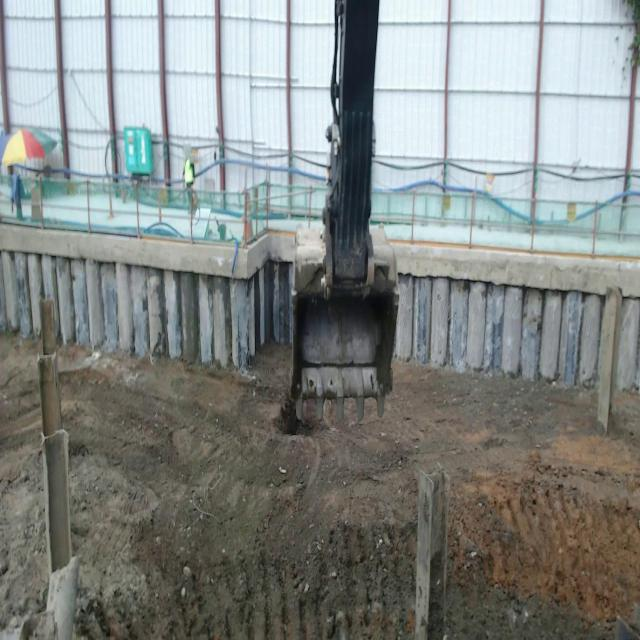cement: (371, 228, 640, 297), (0, 223, 325, 279)
red-sand: (59, 348, 640, 639), (0, 337, 47, 629)
